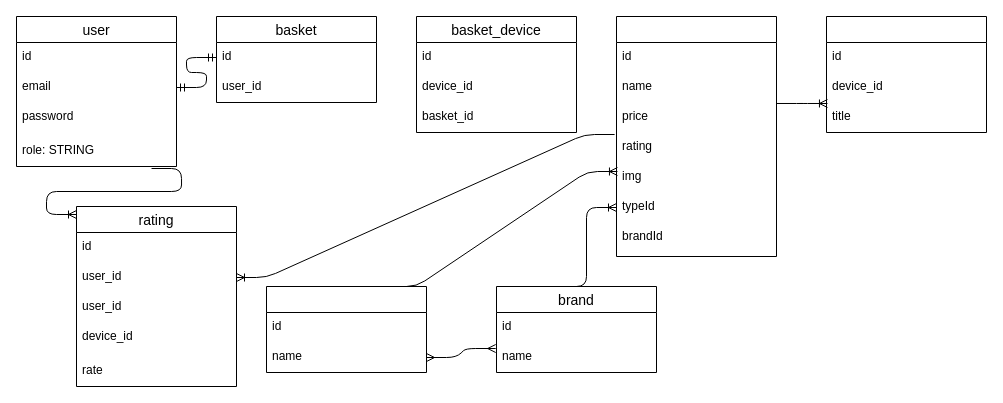
Some shapes in this 1003 by 403 pixel diagram are drawn without their labels. Here are the shapes that lost their labels. From the top down, the box of each, then its label:
(826, 16, 986, 132): device_info
(616, 16, 776, 256): device
(266, 286, 426, 372): type
